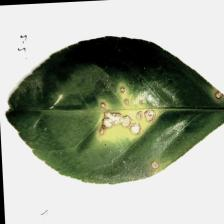canker: (92, 82, 158, 140)
